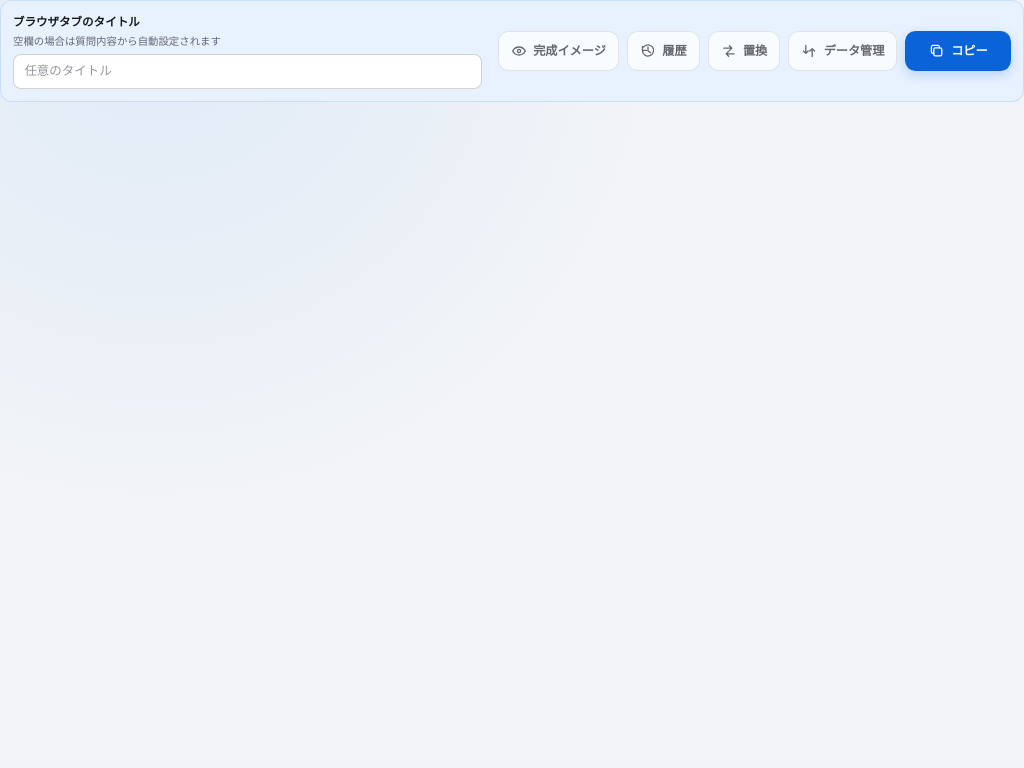
Test case: PromptOutputComponent › 未入力時は空状態を表示し、空のフィールドをプレビューしない
Click the button "完成イメージ" at (558, 51), box left=498, top=31, right=619, bottom=71
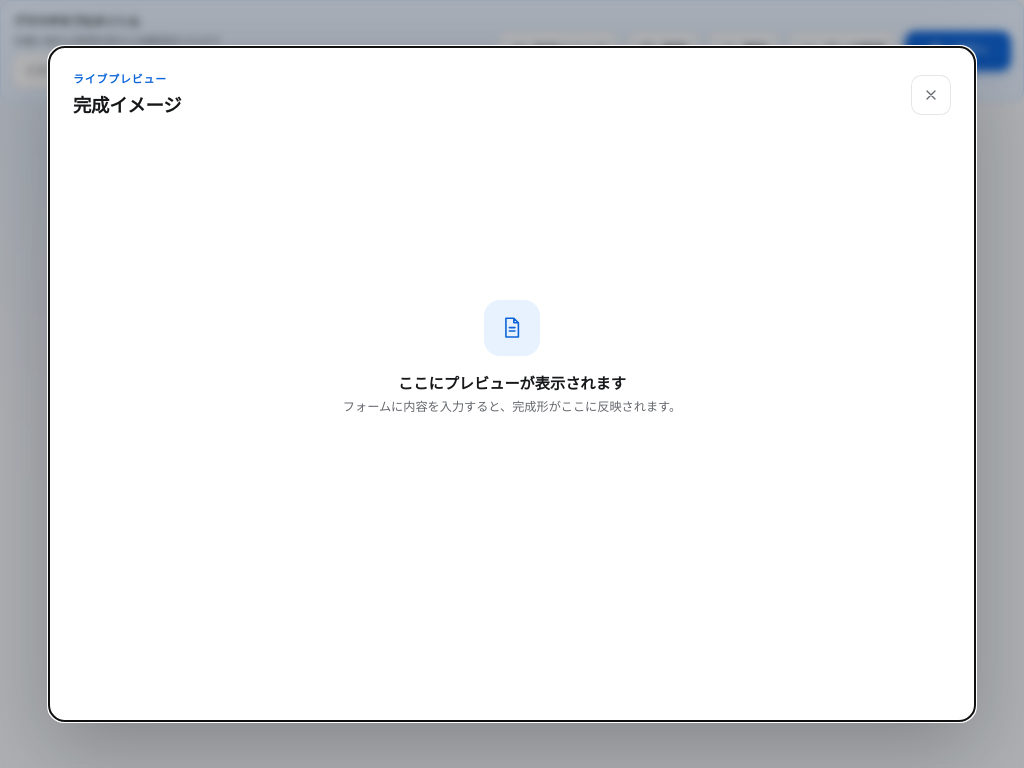
Check: the heading "ここにプレビューが表示されます" is shown, box left=398, top=372, right=626, bottom=394
